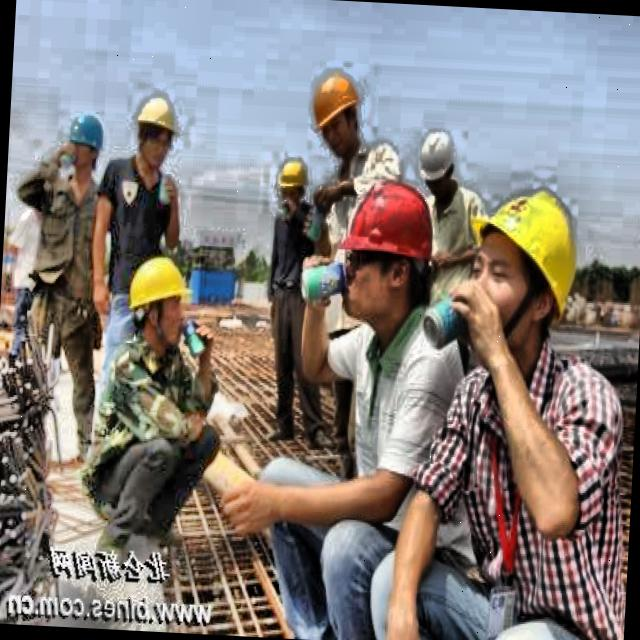helmet: (462, 169, 594, 361), (332, 170, 438, 328), (124, 248, 196, 352), (307, 63, 369, 165), (128, 85, 183, 178), (413, 123, 462, 199), (61, 108, 108, 178), (274, 153, 312, 215)
